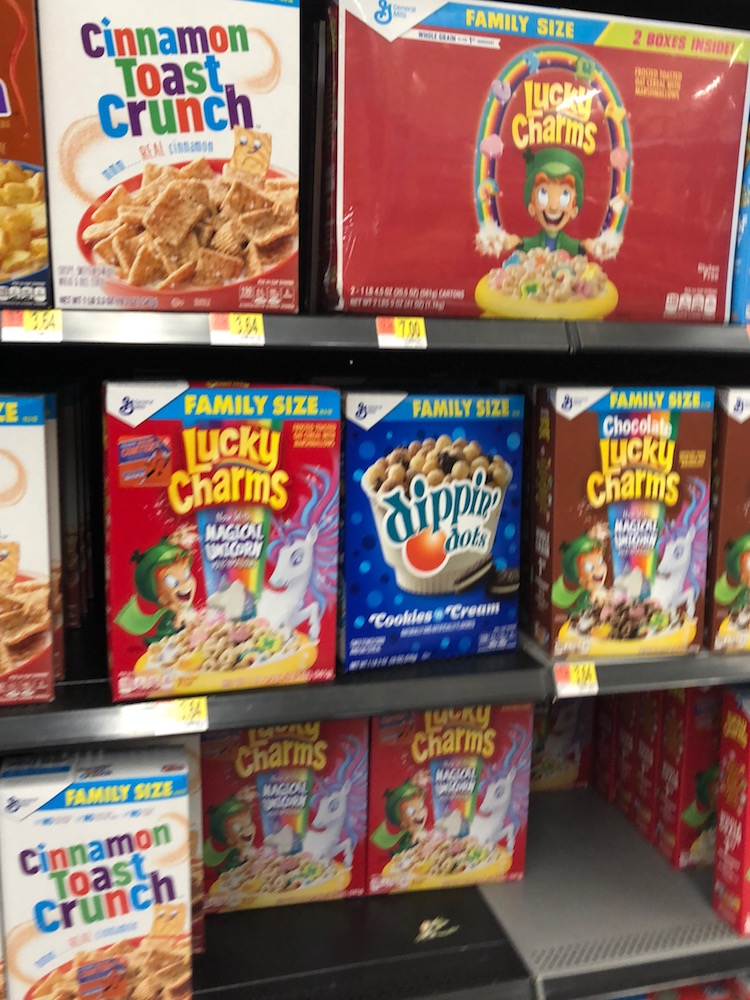Dippin Dots Cookies & Cream -568929378: (338, 397, 524, 671)
